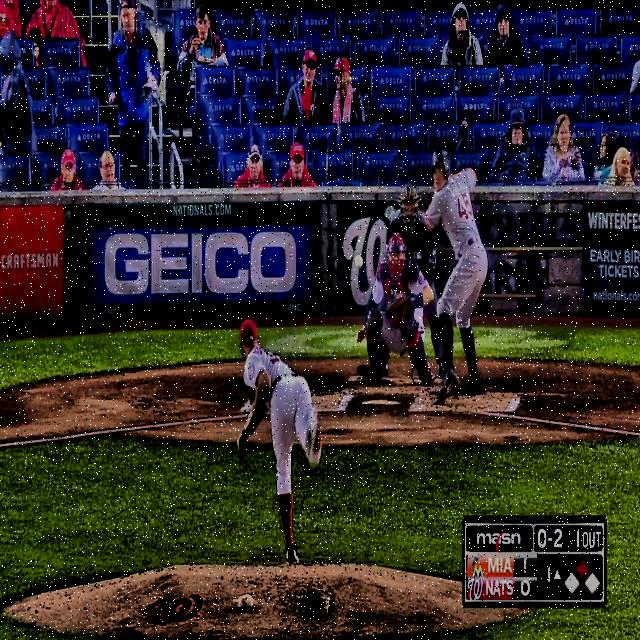baseball: (354, 254, 364, 270)
